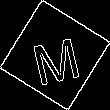M_N: (27, 26, 83, 84)
